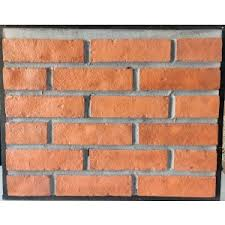brick: (90, 36, 172, 64), (3, 37, 84, 63), (88, 147, 169, 172), (137, 67, 220, 91), (53, 122, 133, 146), (138, 123, 218, 147), (89, 95, 169, 118), (6, 95, 85, 118), (52, 67, 134, 89), (137, 175, 216, 196), (6, 149, 84, 170), (56, 173, 132, 194), (176, 36, 222, 62), (5, 120, 49, 147), (173, 95, 220, 119), (7, 173, 52, 196), (173, 148, 217, 171), (3, 68, 48, 90)
